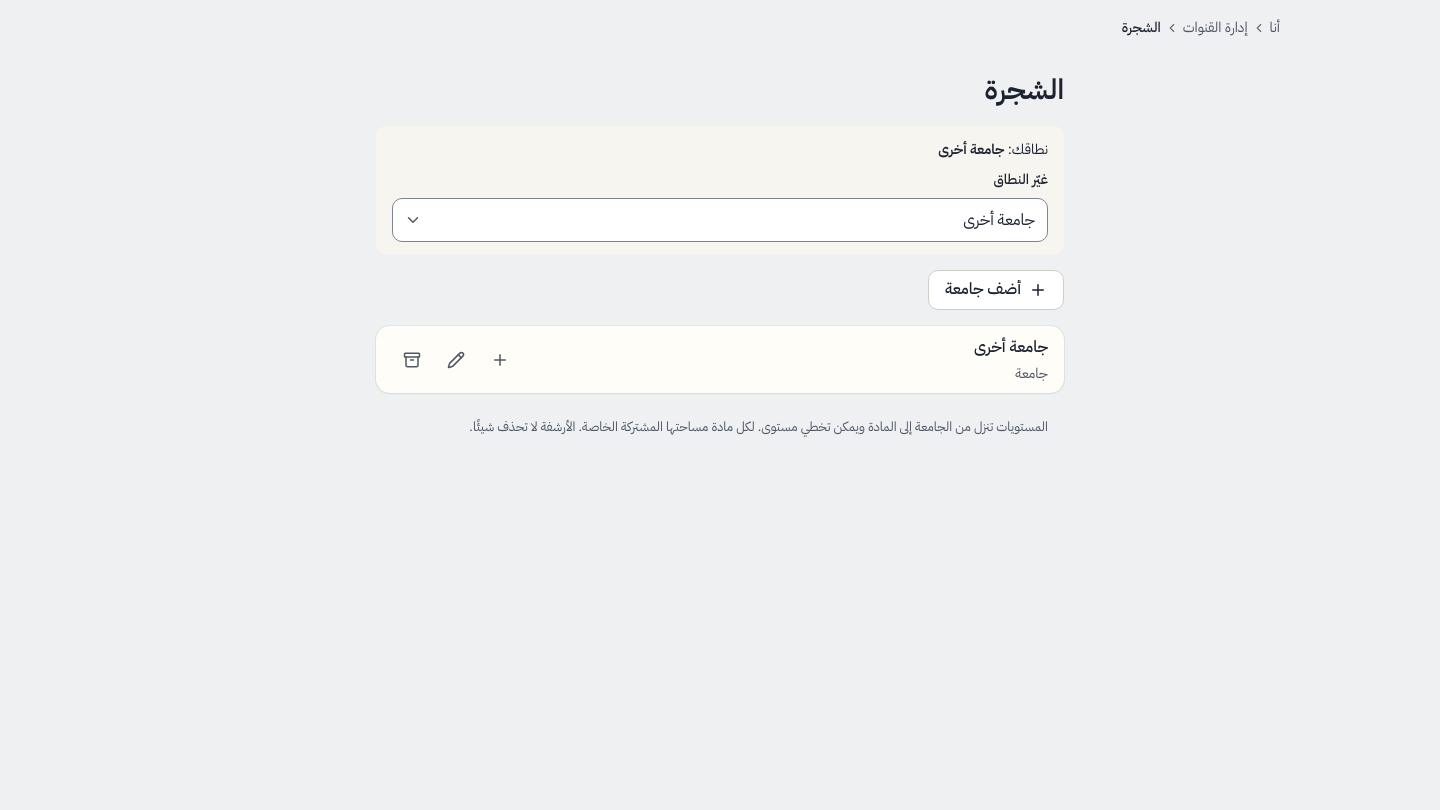
Test case: «الشجرة» › the platform admin adds a university and the section moves to it (it is shown, not hidden in another scope)
expect the heading "الشجرة" is shown: met, box [985, 69, 1064, 111]
Click the button "أضف جامعة" at (996, 290), box [928, 270, 1064, 310]
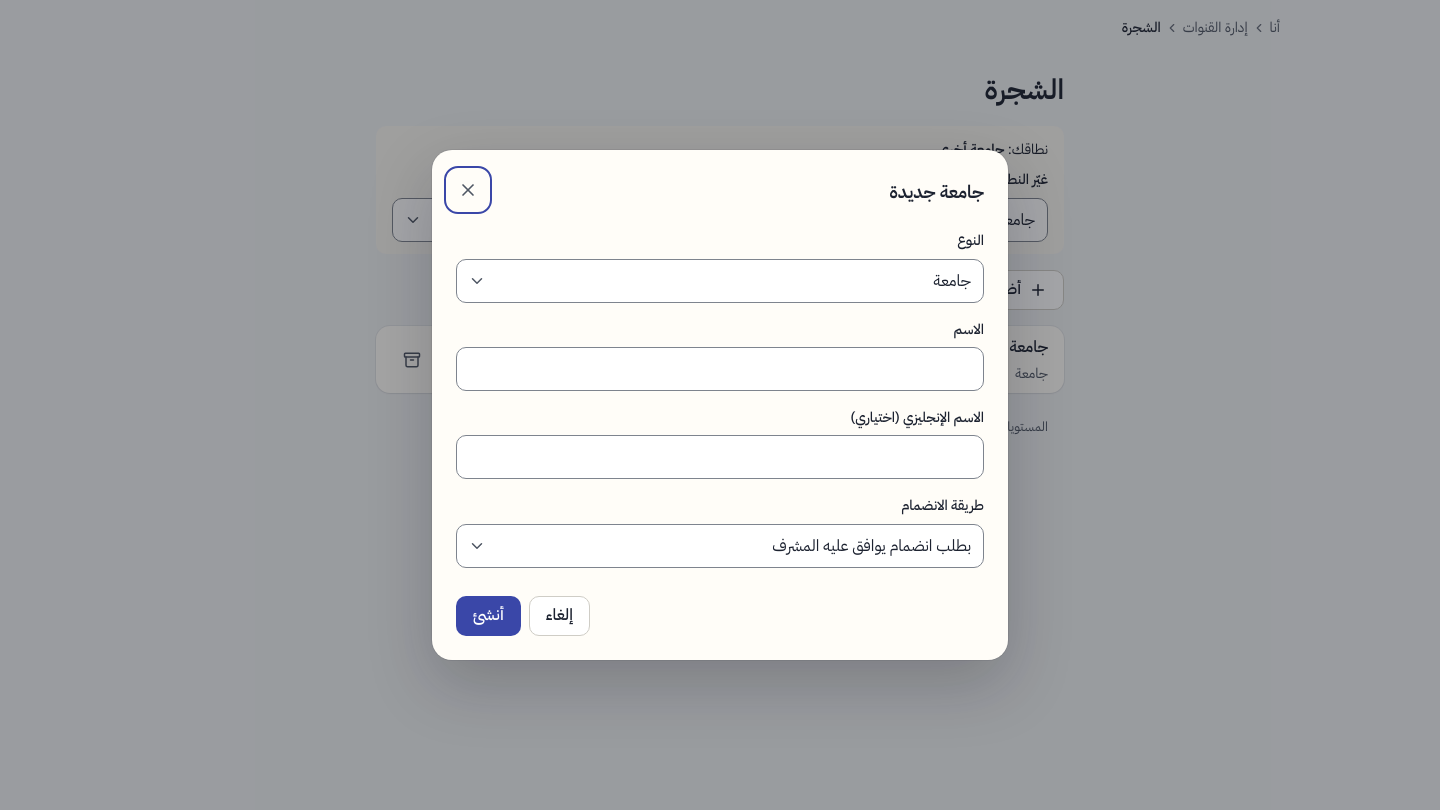
Type "جامعة الكوفة" into the field labelled "الاسم" at (720, 369), box [456, 347, 984, 391]
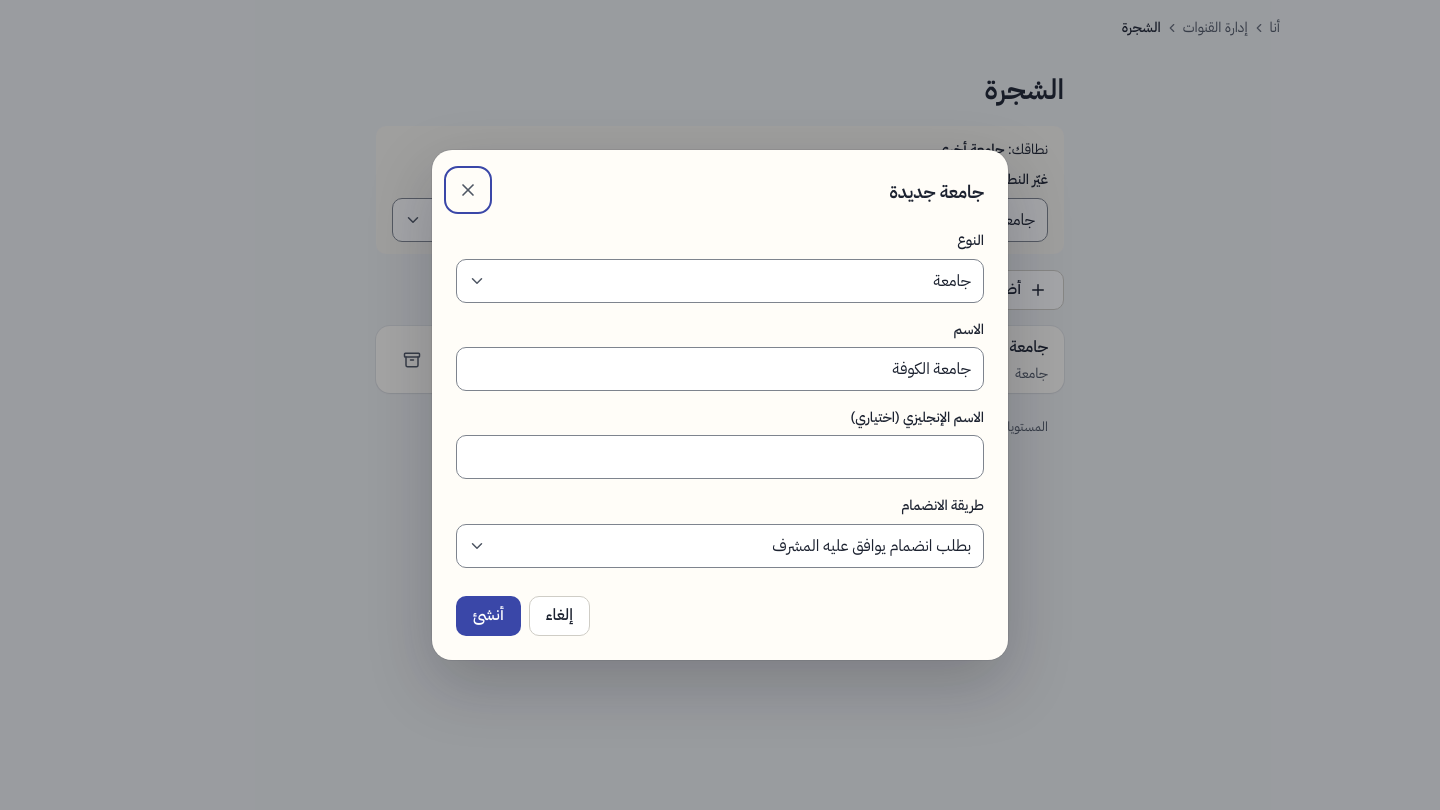
Click the button "أنشئ" at (488, 616), box [456, 596, 521, 636]
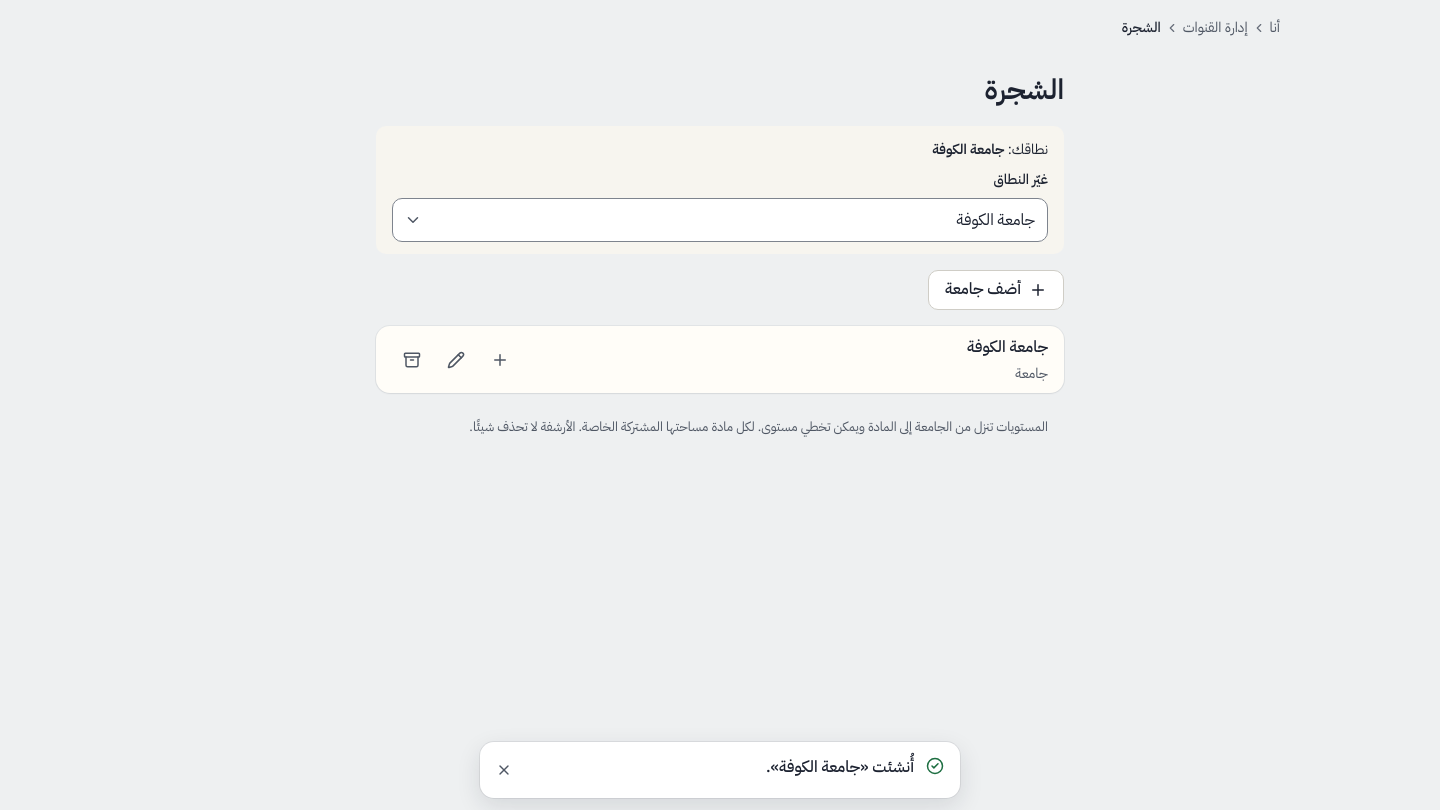
expect the button named "أضف تحت جامعة الكوفة" is shown: met, box [480, 340, 520, 380]
expect the text "نطاقك: جامعة الكوفة" is shown: met, box [932, 139, 1048, 160]
